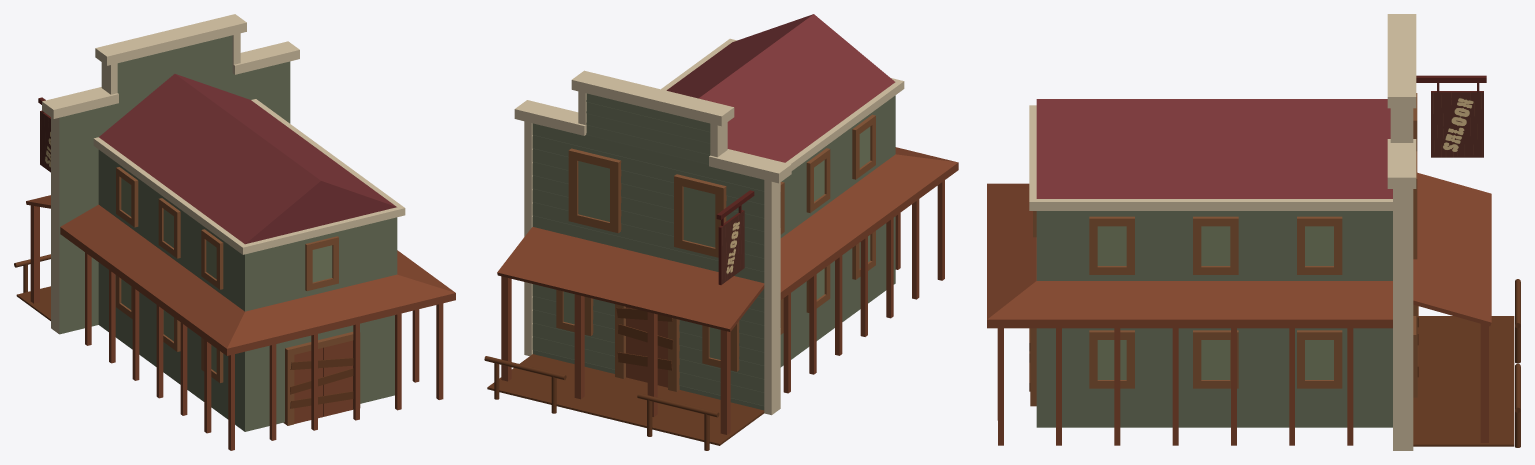
File: Saloon_Einzelobjekt.fbx
3 views of the same model, side by side, from view 1: azimuth 30°, elevation 25°; view 2: azimuth 150°, elevation 25°; view 3: azimuth 270°, elevation 25° (orthographic). The views are drawn at different scales.
Visible parts, largest first — view 1: Korpus.001; view 2: Korpus.001; view 3: Korpus.001.
Boxes of the visible parts, x1,y1,x2,y2 form: Korpus.001: [14, 14, 455, 450]; Korpus.001: [484, 14, 958, 450]; Korpus.001: [987, 14, 1520, 450].
Bounding box in the file's own units: 582 × 617 × 897.
